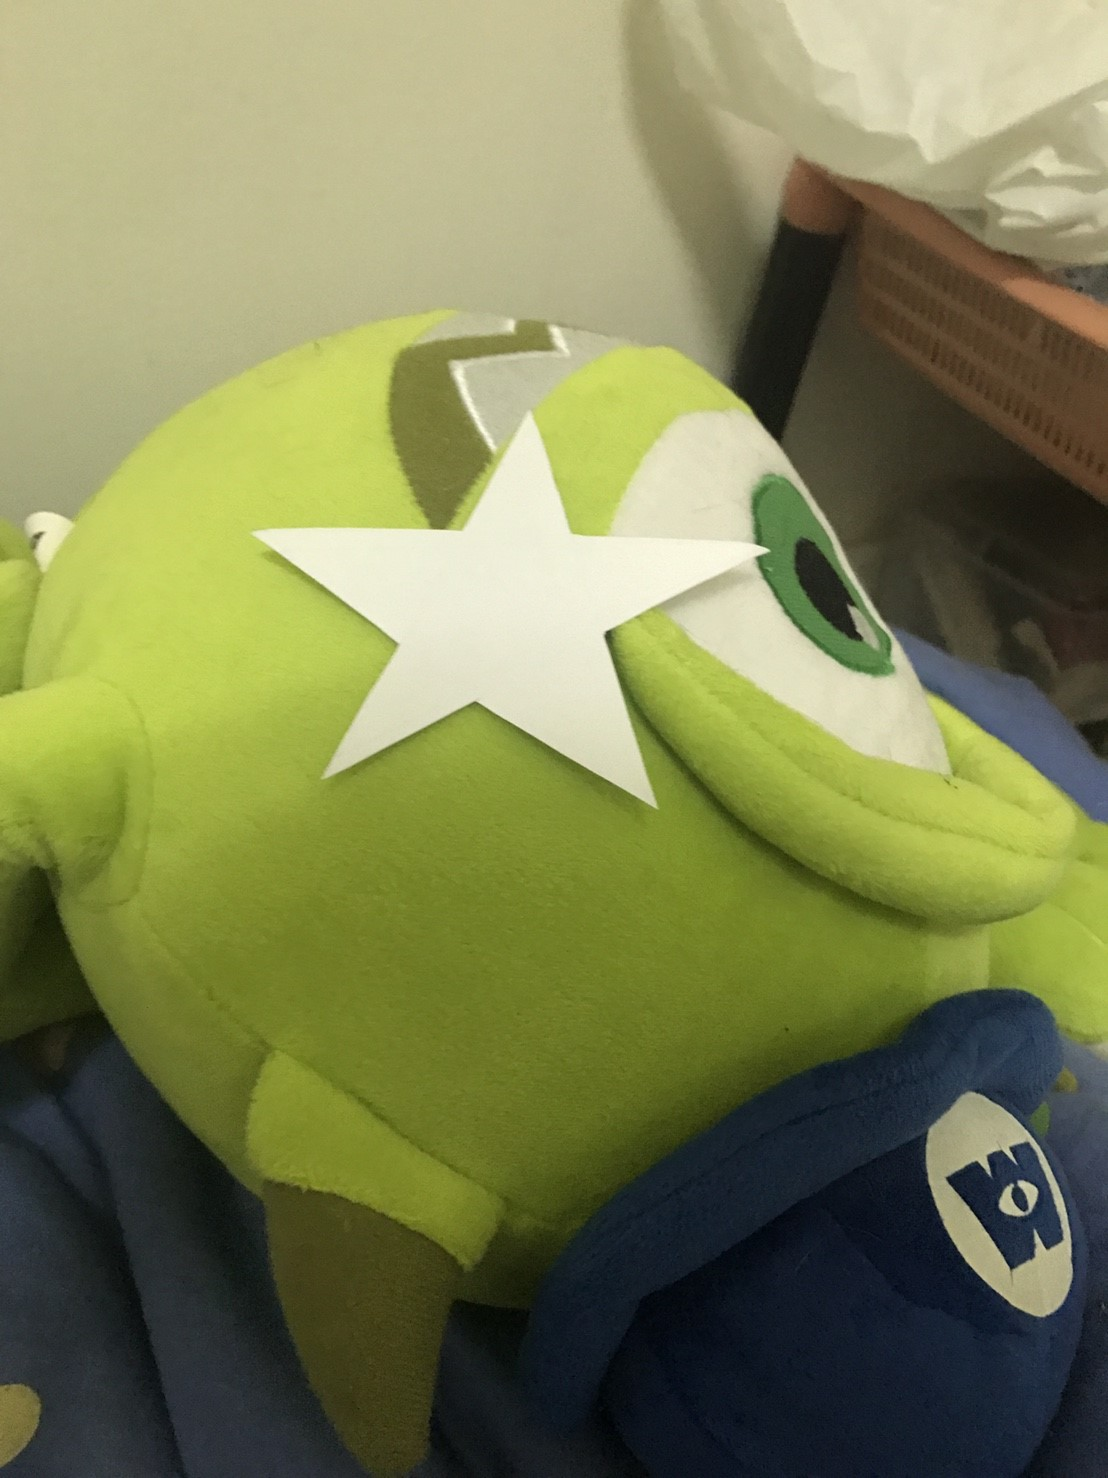star: (248, 400, 779, 826)
